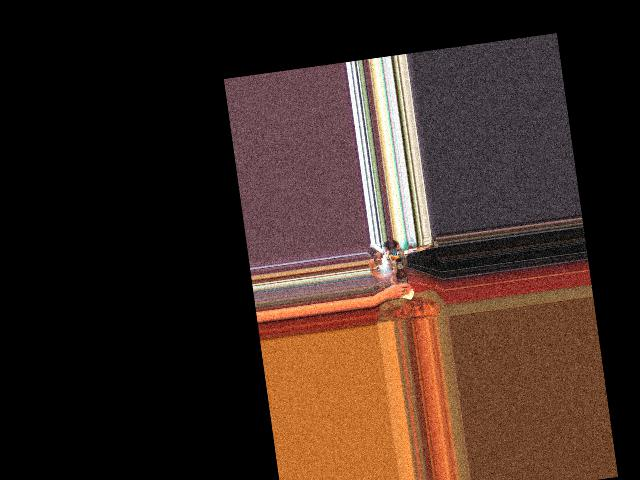beer: (394, 255, 410, 295)
